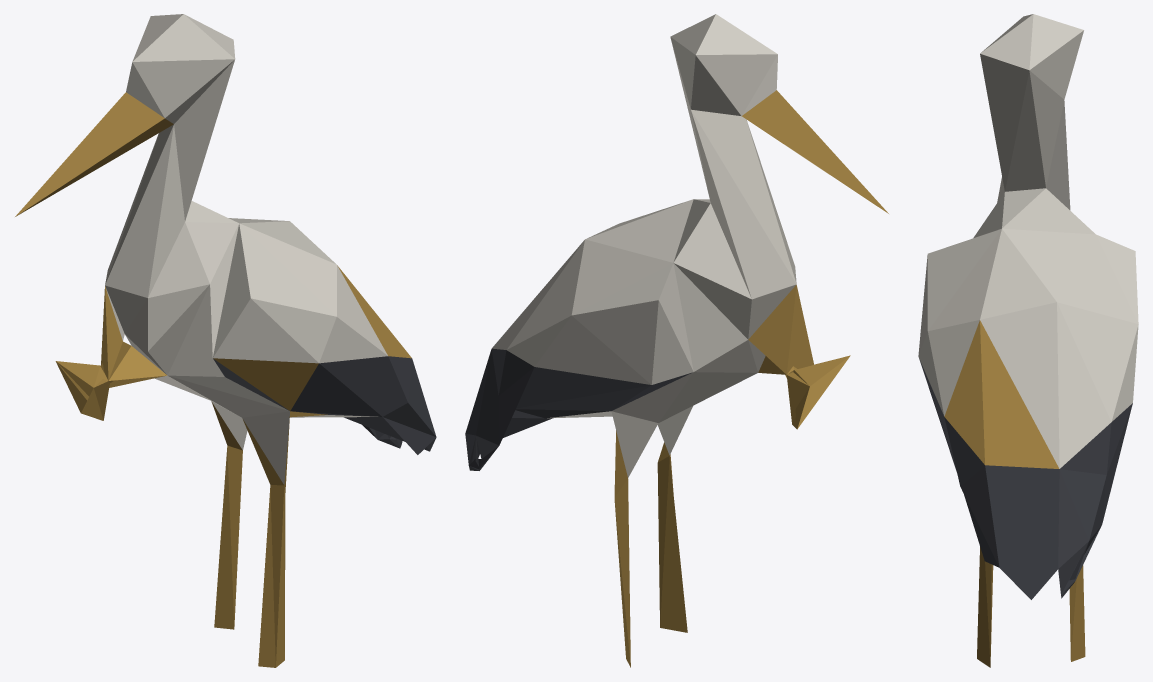
The picture shows the model from 3 angles, left to right: view 1: azimuth 30°, elevation 25°; view 2: azimuth 150°, elevation 25°; view 3: azimuth 270°, elevation 25°; orthographic projection. The views are drawn at different scales.
Parts seen in each view (by area): view 1: lion-200; view 2: lion-200; view 3: lion-200.
Boxes of the visible parts, x1=… form: lion-200: x1=15, y1=14, x2=436, y2=667; lion-200: x1=465, y1=14, x2=888, y2=667; lion-200: x1=918, y1=14, x2=1138, y2=667.
Size of the model in its own units: 0.6694 by 0.9969 by 0.3221.
